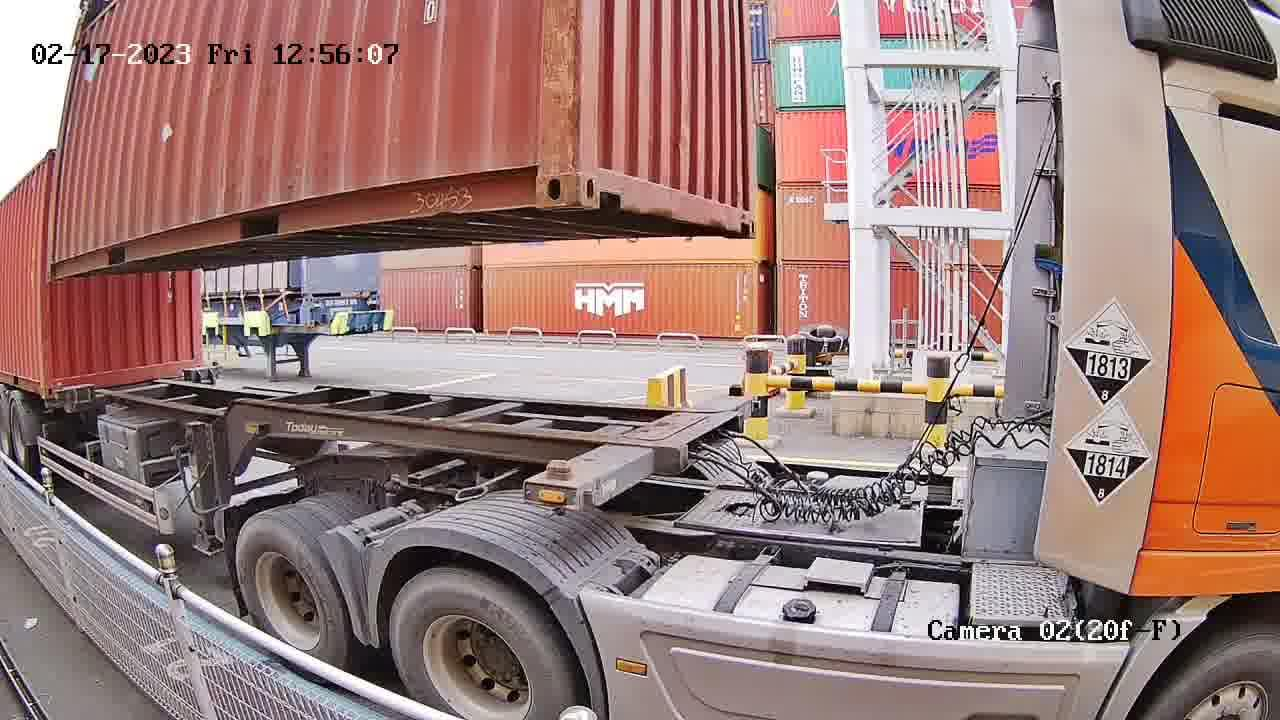Chassis: (523, 395, 753, 514)
Cone: (539, 456, 576, 522), (727, 384, 746, 401)
Hole_L: (579, 126, 635, 213)
Hole_R: (495, 125, 579, 208), (736, 197, 758, 239)
Tire: (390, 568, 574, 719), (238, 515, 346, 663)
